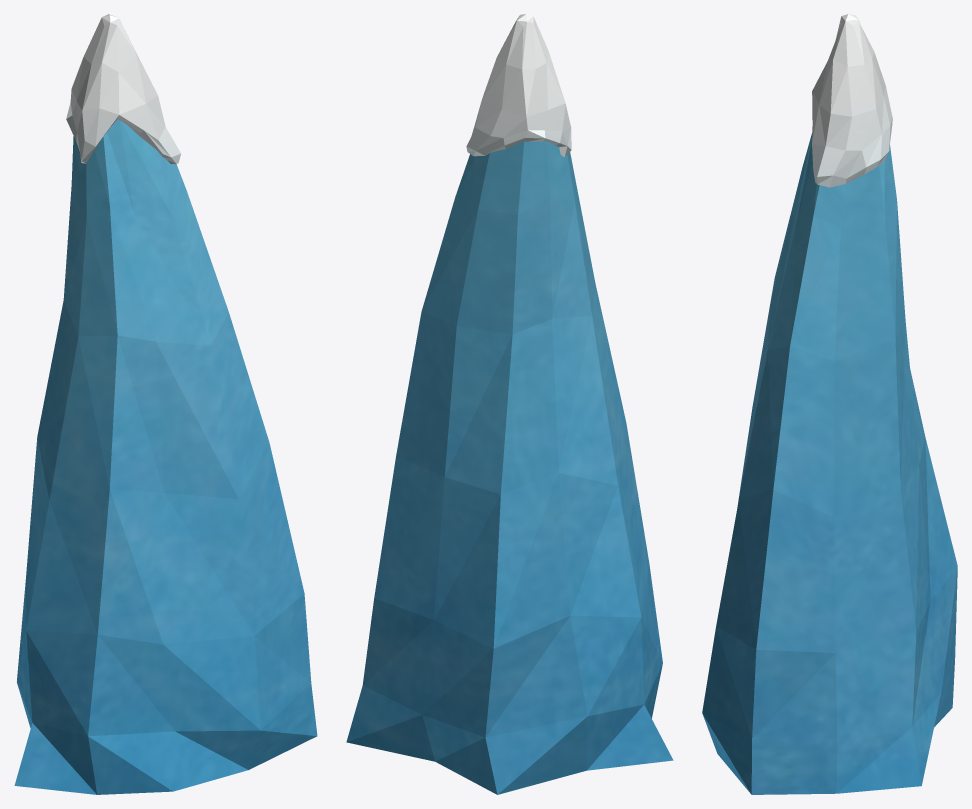
Rendered from HX-Bingzhui2.FBX.
3 views of the same model, side by side, from view 1: azimuth 30°, elevation 25°; view 2: azimuth 150°, elevation 25°; view 3: azimuth 270°, elevation 25° (orthographic). The views are drawn at different scales.
Parts seen in each view (by area): view 1: bingzhui2, jixue8; view 2: bingzhui2, jixue8; view 3: bingzhui2, jixue8.
Boxes of the visible parts, left/top/right/bottom form: bingzhui2: left=14, top=119, right=317, bottom=794; jixue8: left=66, top=14, right=181, bottom=164; bingzhui2: left=346, top=141, right=673, bottom=794; jixue8: left=466, top=14, right=571, bottom=157; bingzhui2: left=702, top=133, right=957, bottom=794; jixue8: left=812, top=14, right=892, bottom=187.
Bounding box in the file's own units: 373 × 927 × 304.
